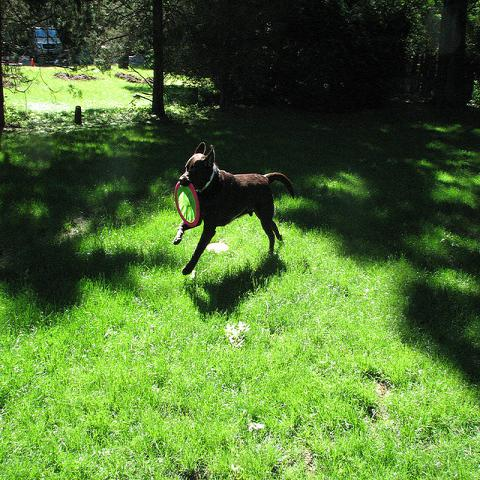truck: (25, 25, 63, 62)
